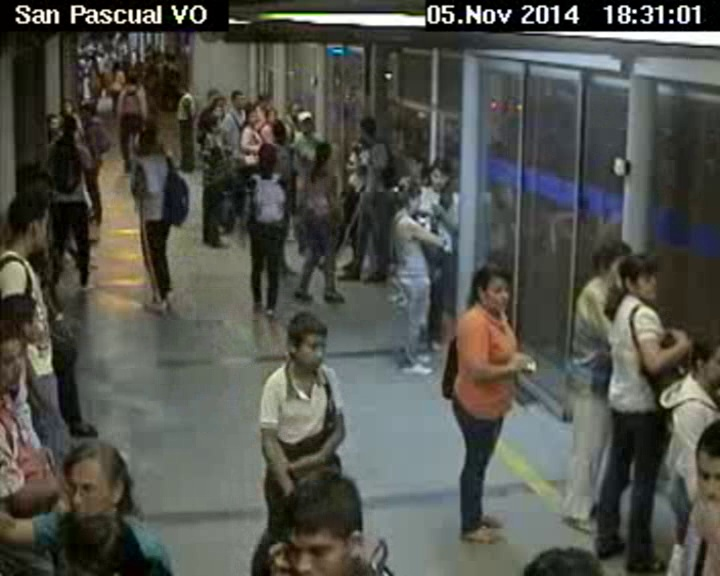person: (285, 472, 380, 576), (54, 502, 143, 576), (60, 431, 129, 512), (508, 539, 618, 576), (1, 187, 52, 258), (463, 255, 512, 324), (276, 308, 328, 370), (682, 411, 720, 495), (1, 329, 39, 403), (584, 236, 635, 288), (1, 290, 52, 342), (680, 324, 720, 388), (617, 247, 660, 305), (388, 179, 421, 216), (128, 125, 165, 156), (426, 156, 453, 193), (356, 113, 383, 143), (257, 139, 277, 175), (312, 138, 331, 169), (295, 109, 314, 132), (58, 115, 79, 135), (201, 115, 221, 135), (229, 87, 245, 110), (43, 112, 61, 132), (243, 107, 257, 126), (59, 97, 74, 114), (124, 70, 139, 85), (262, 109, 278, 123), (177, 80, 190, 97), (81, 105, 95, 117)
